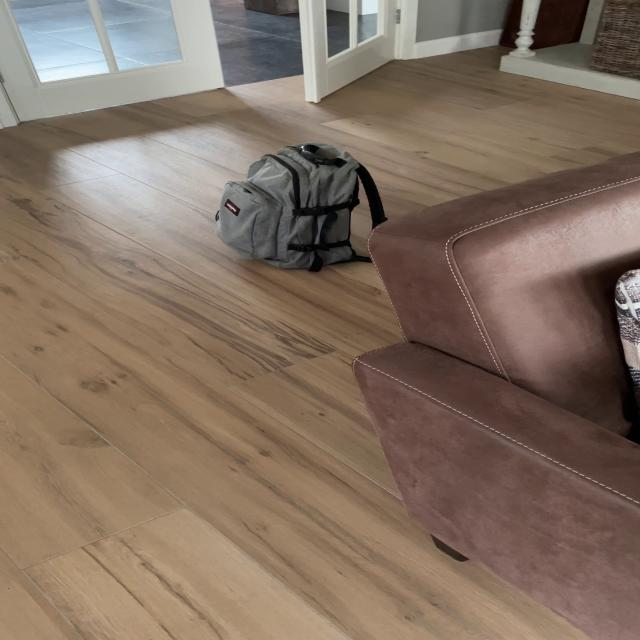backpack: (205, 136, 384, 274)
